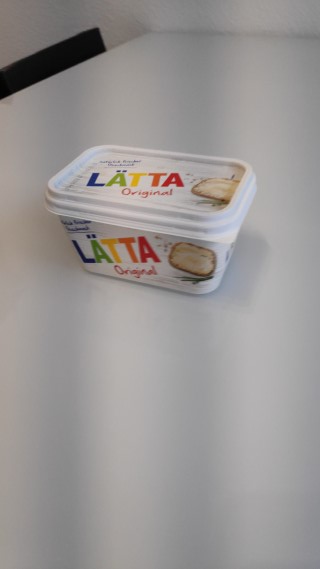laetta: (43, 142, 259, 295)
